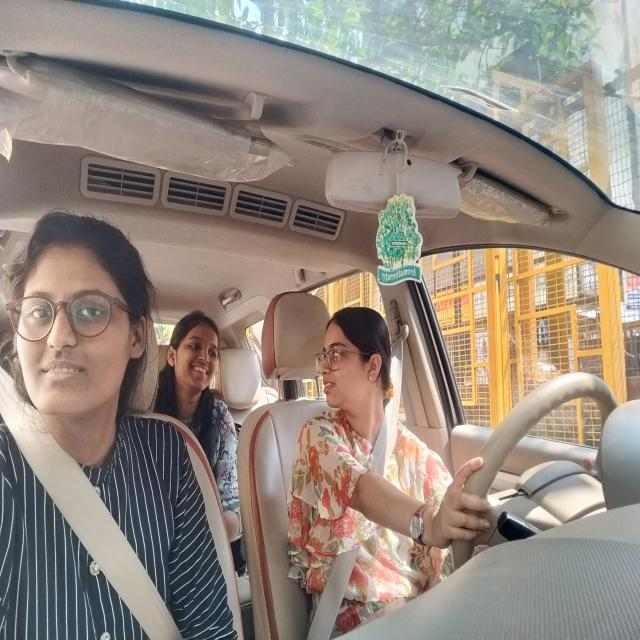LeftRight: (314, 297, 406, 472)
person: (10, 178, 156, 448), (169, 299, 223, 410)
talking: (318, 375, 342, 400)
